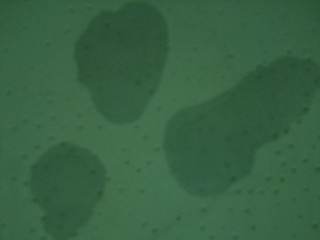Water_detected: (176, 85, 258, 179), (78, 18, 157, 101), (44, 152, 91, 216)
